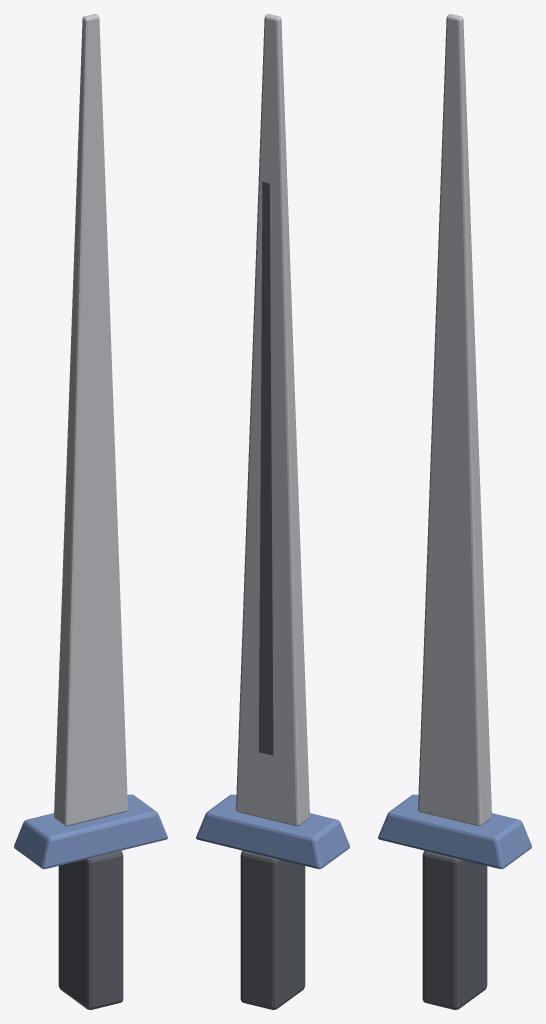
Rendered from weapon_sword_live.glb.
3 renders of one model, left to right at view 1: azimuth 30°, elevation 25°; view 2: azimuth 150°, elevation 25°; view 3: azimuth 330°, elevation 25°, orthographic.
Parts seen in each view (by area): view 1: blade, grip, guard; view 2: blade, grip, fuller, guard; view 3: blade, grip, guard.
Boxes of the visible parts, x1=… form: blade: x1=54, y1=14, x2=127, y2=826; grip: x1=58, y1=851, x2=123, y2=1009; guard: x1=14, y1=794, x2=167, y2=869; blade: x1=236, y1=14, x2=309, y2=826; grip: x1=240, y1=851, x2=305, y2=1009; fuller: x1=259, y1=182, x2=273, y2=755; guard: x1=196, y1=794, x2=349, y2=869; blade: x1=418, y1=14, x2=491, y2=826; grip: x1=422, y1=851, x2=487, y2=1009; guard: x1=378, y1=794, x2=531, y2=869.
Bounding box in the file's own units: 1.17 × 8.75 × 0.51.
